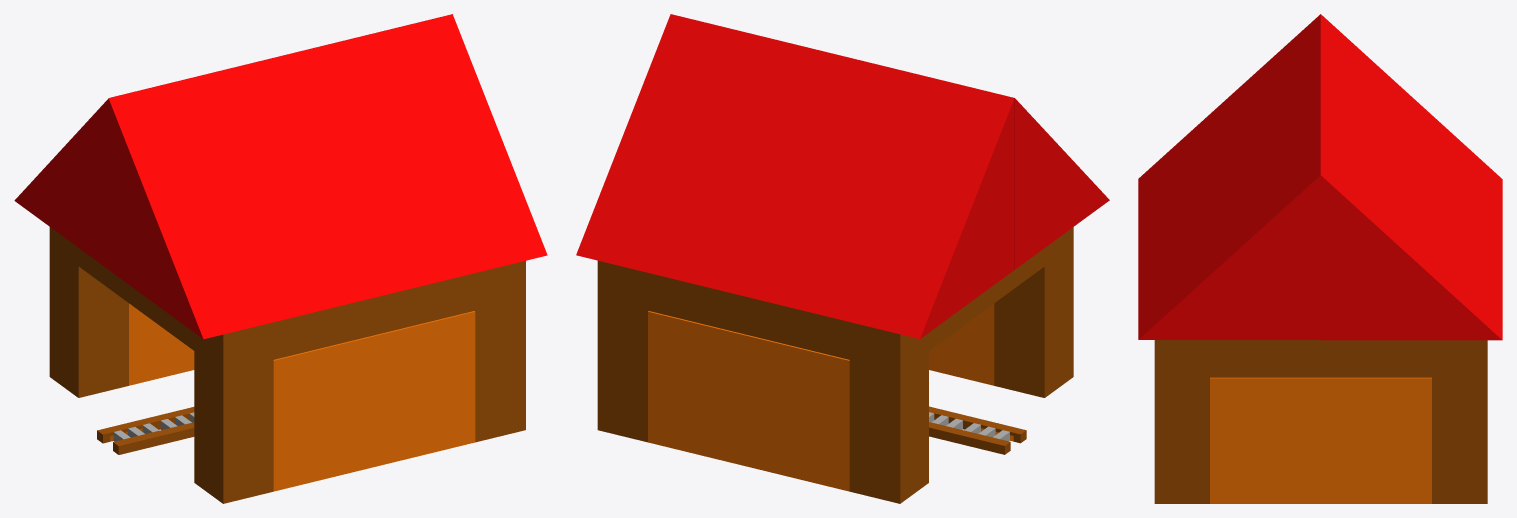
The model's file is Mine.fbx.
3 renders of one model, left to right at view 1: azimuth 30°, elevation 25°; view 2: azimuth 150°, elevation 25°; view 3: azimuth 270°, elevation 25°, orthographic. The views are drawn at different scales.
Parts seen in each view (by area): view 1: Cube.007, Cube.001, Cube.002, Cube.008, Cube.003, Cube.004; view 2: Cube.008, Cube.001, Cube.002, Cube.007, Cube.003, Cube.004; view 3: Cube.008, Cube.007, Cube.002, Cube.001.
Part boxes in pixels (x1,y1,x2,y2): Cube.007: [108, 14, 547, 339]; Cube.001: [49, 227, 525, 503]; Cube.002: [129, 303, 475, 491]; Cube.008: [14, 14, 452, 269]; Cube.003: [97, 407, 194, 454]; Cube.004: [113, 412, 194, 441]; Cube.008: [576, 14, 1014, 338]; Cube.001: [597, 227, 1073, 503]; Cube.002: [648, 303, 994, 491]; Cube.007: [1014, 98, 1109, 269]; Cube.003: [929, 406, 1026, 454]; Cube.004: [929, 412, 1009, 441]; Cube.008: [1320, 14, 1502, 340]; Cube.007: [1138, 14, 1320, 339]; Cube.002: [1210, 377, 1431, 503]; Cube.001: [1154, 340, 1487, 503].
Bounding box in the file's own units: 342 × 343 × 325.
